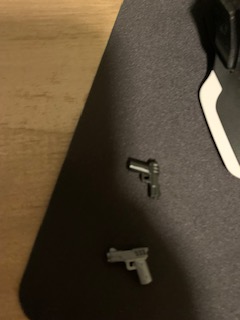pistol: (102, 244, 159, 287), (122, 150, 164, 203)
